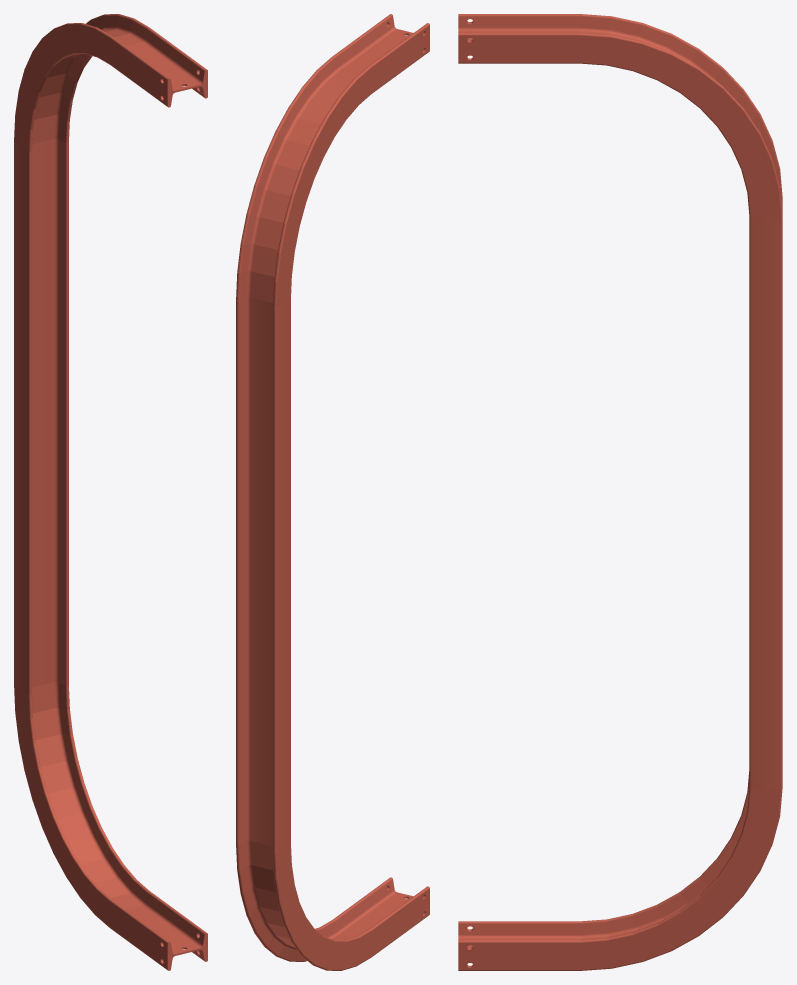
The model's file is EV-CM-HU-212 - H-Profile U-Shape.glb.
3 views of the same model, side by side, from view 1: azimuth 30°, elevation 25°; view 2: azimuth 150°, elevation 25°; view 3: azimuth 270°, elevation 25° (orthographic). The views are drawn at different scales.
Visible parts, largest first — view 1: H-Profile_Curved002; view 2: H-Profile_Curved002; view 3: H-Profile_Curved002.
Part boxes in pixels (box(x1,y1,x2,y2)): H-Profile_Curved002: box(14, 14, 207, 970); H-Profile_Curved002: box(236, 14, 429, 970); H-Profile_Curved002: box(458, 14, 782, 970).
Bounding box in the file's own units: 99.97 × 2116 × 663.
